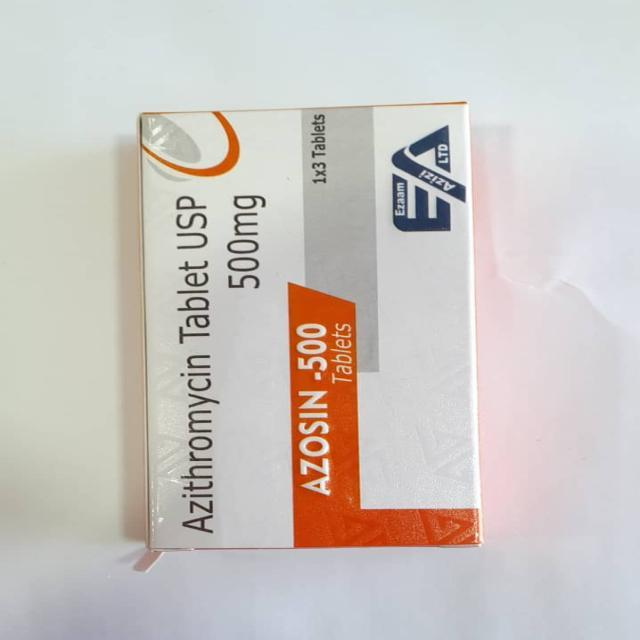drug-name: (293, 322, 330, 502)
